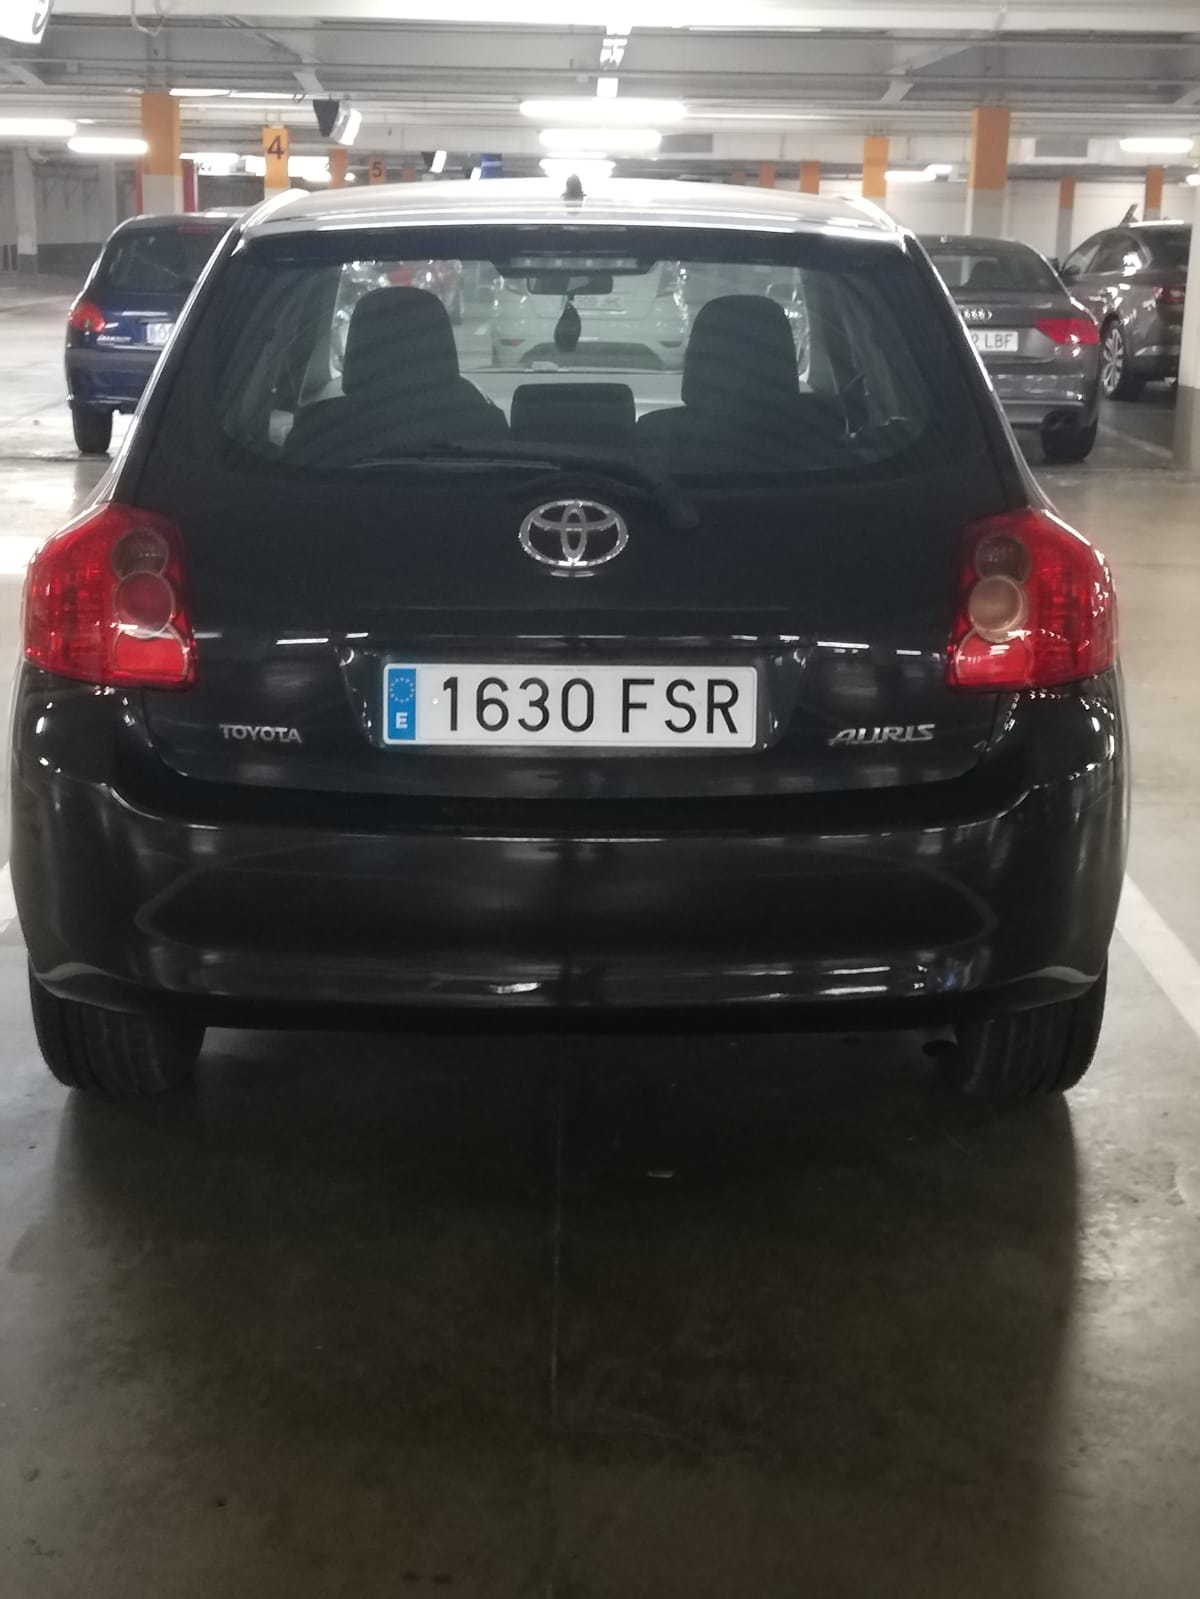Car: (16, 176, 1112, 1111)
Plate: (383, 661, 754, 747)
